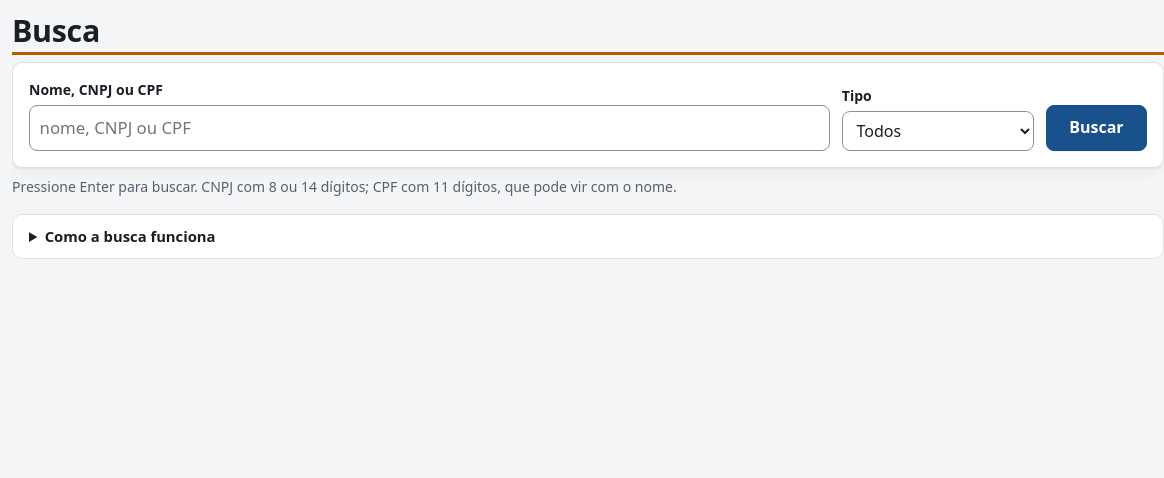
Test: SearchPage › busca lista resultados com tipo e CNPJ formatado
Type "ficticia" into the search field labelled "Nome, CNPJ ou CPF" at {"x": 429, "y": 128}, box [29, 105, 830, 151]
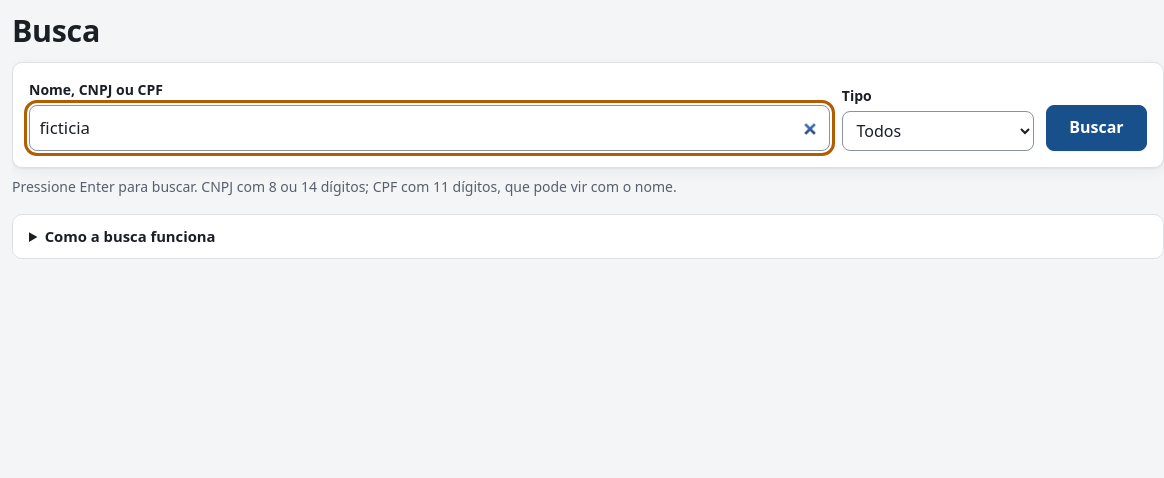
Click the button "Buscar" at {"x": 1096, "y": 128}, box [1046, 105, 1147, 151]
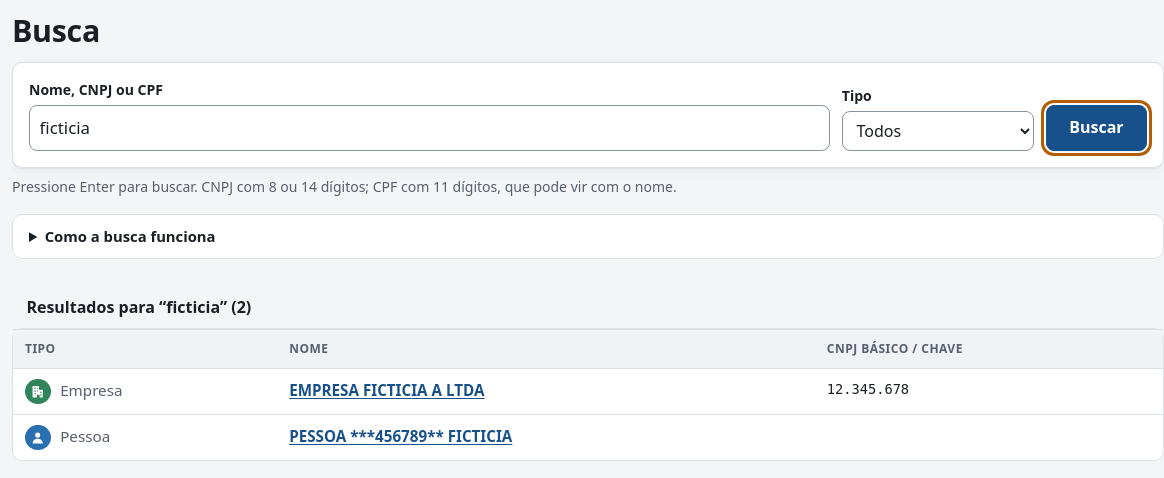
Result: the text "Empresa" is shown at [13, 369, 277, 415]
Result: the text "12.345.678" is shown at [815, 369, 1163, 415]
Result: the text "Pessoa" is shown at [13, 415, 277, 460]
